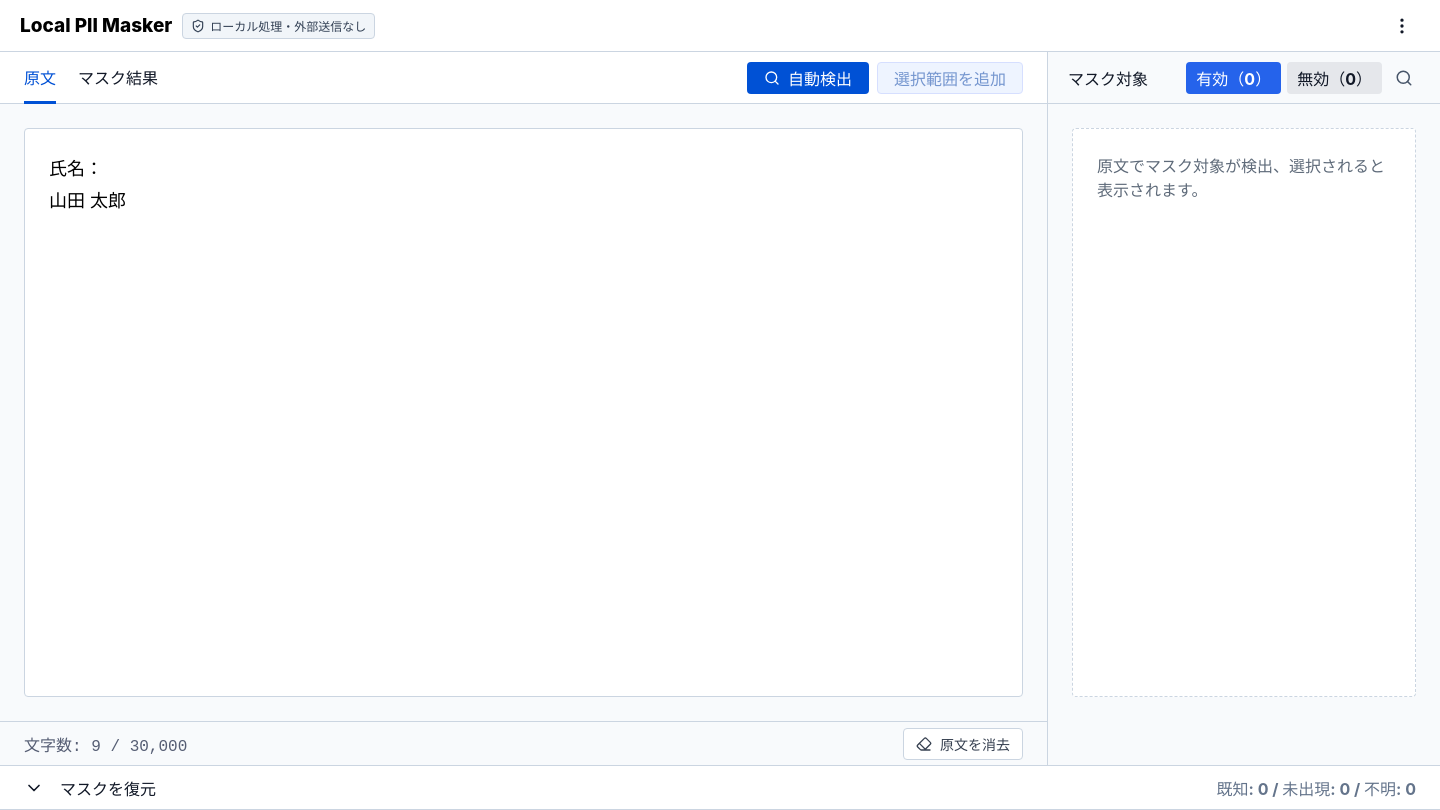
Test: App › メニューから正規化を開き、適用結果を新しい原文にする
What coordinates should you click on to do the following:
click the button named "メニュー"
I would click on:
 (1402, 26)
Its box is 1384,8 -> 1420,44.
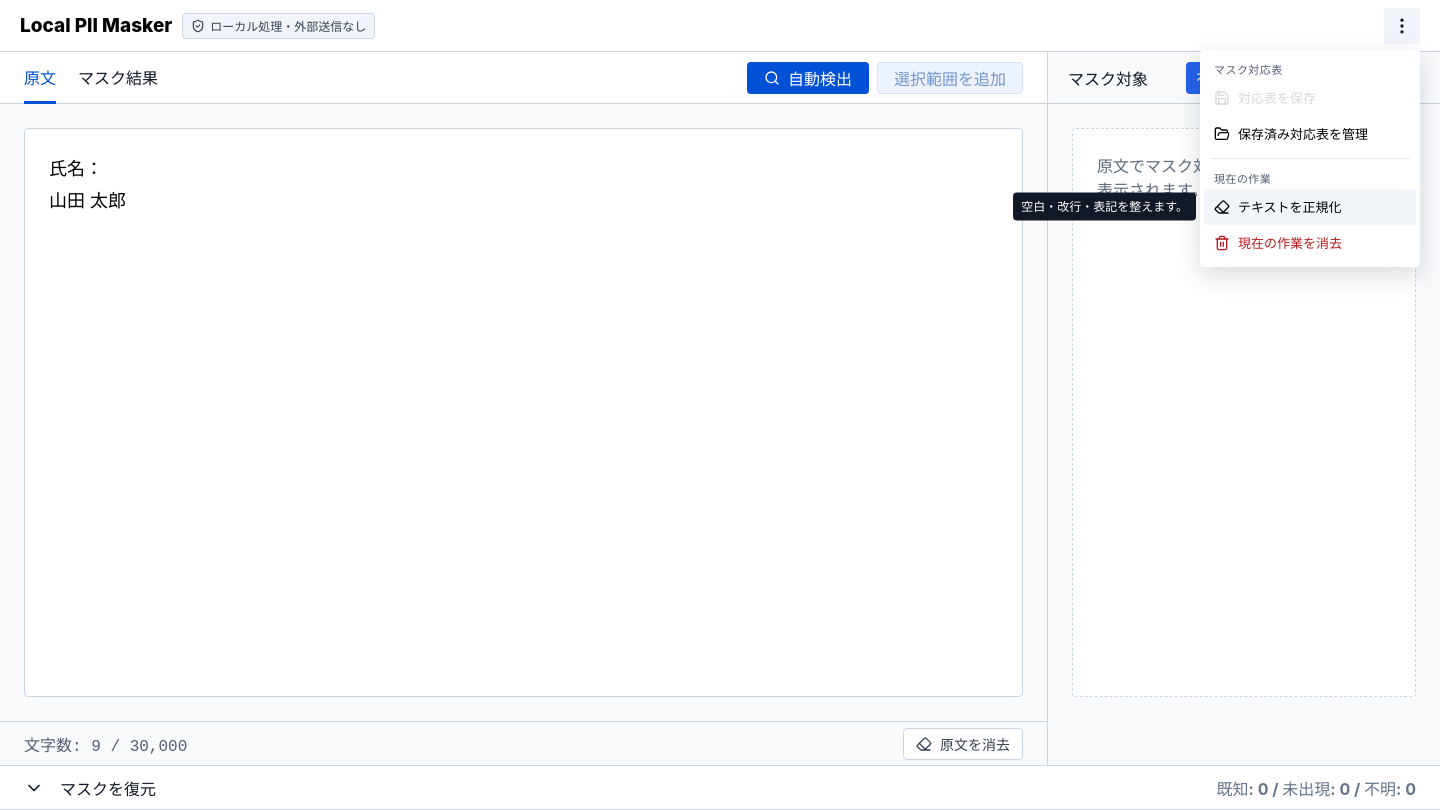
What coordinates should you click on to do the following:
click the menu item "テキストを正規化"
I would click on:
 (1310, 206)
Its box is 1204,188 -> 1416,224.
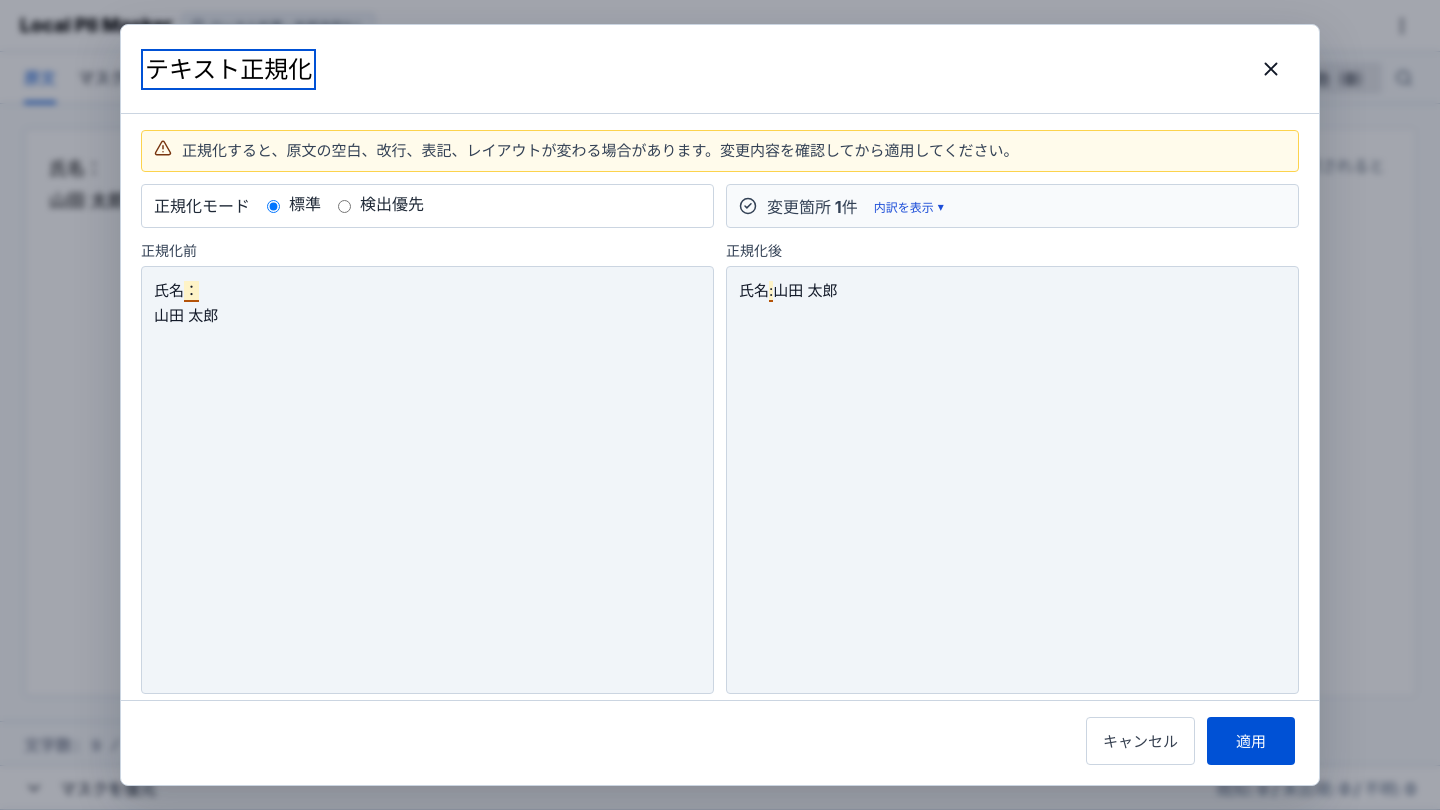
Result: the radio button labelled "標準" is checked at 267,200 -> 280,213
Result: the button "適用" is enabled
Result: the button "適用" is shown
What coordinates should you click on to do the following:
click the button "適用"
I would click on:
 (1251, 741)
Its box is 1207,717 -> 1295,765.
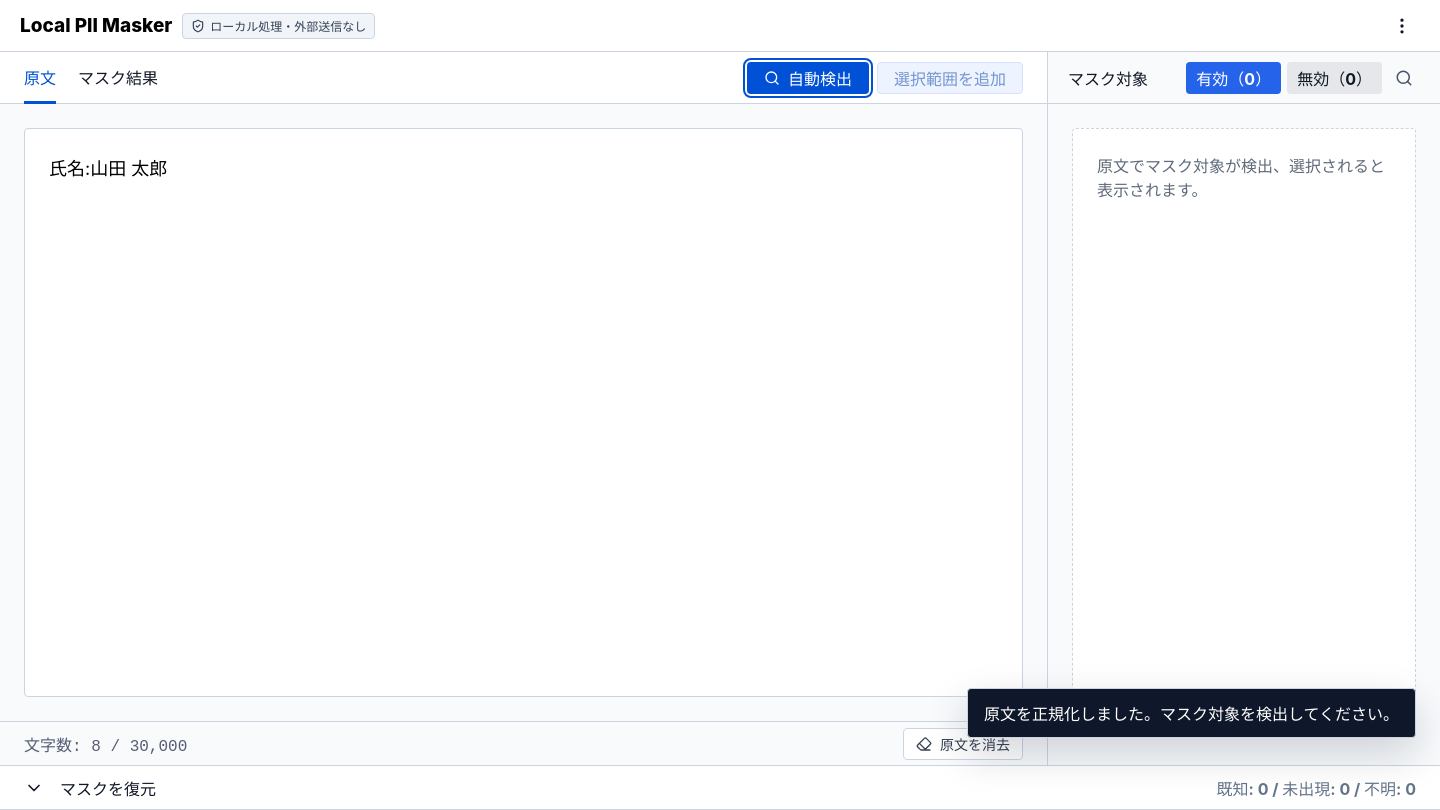
Result: the heading "テキスト正規化" is gone
Result: the text box labelled "氏名:山田 太郎" is shown at 49,158 -> 167,179
